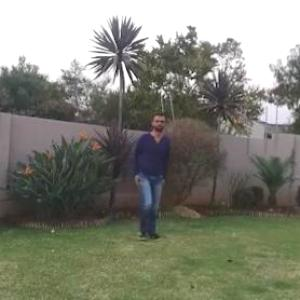follow: (133, 115, 167, 236)
